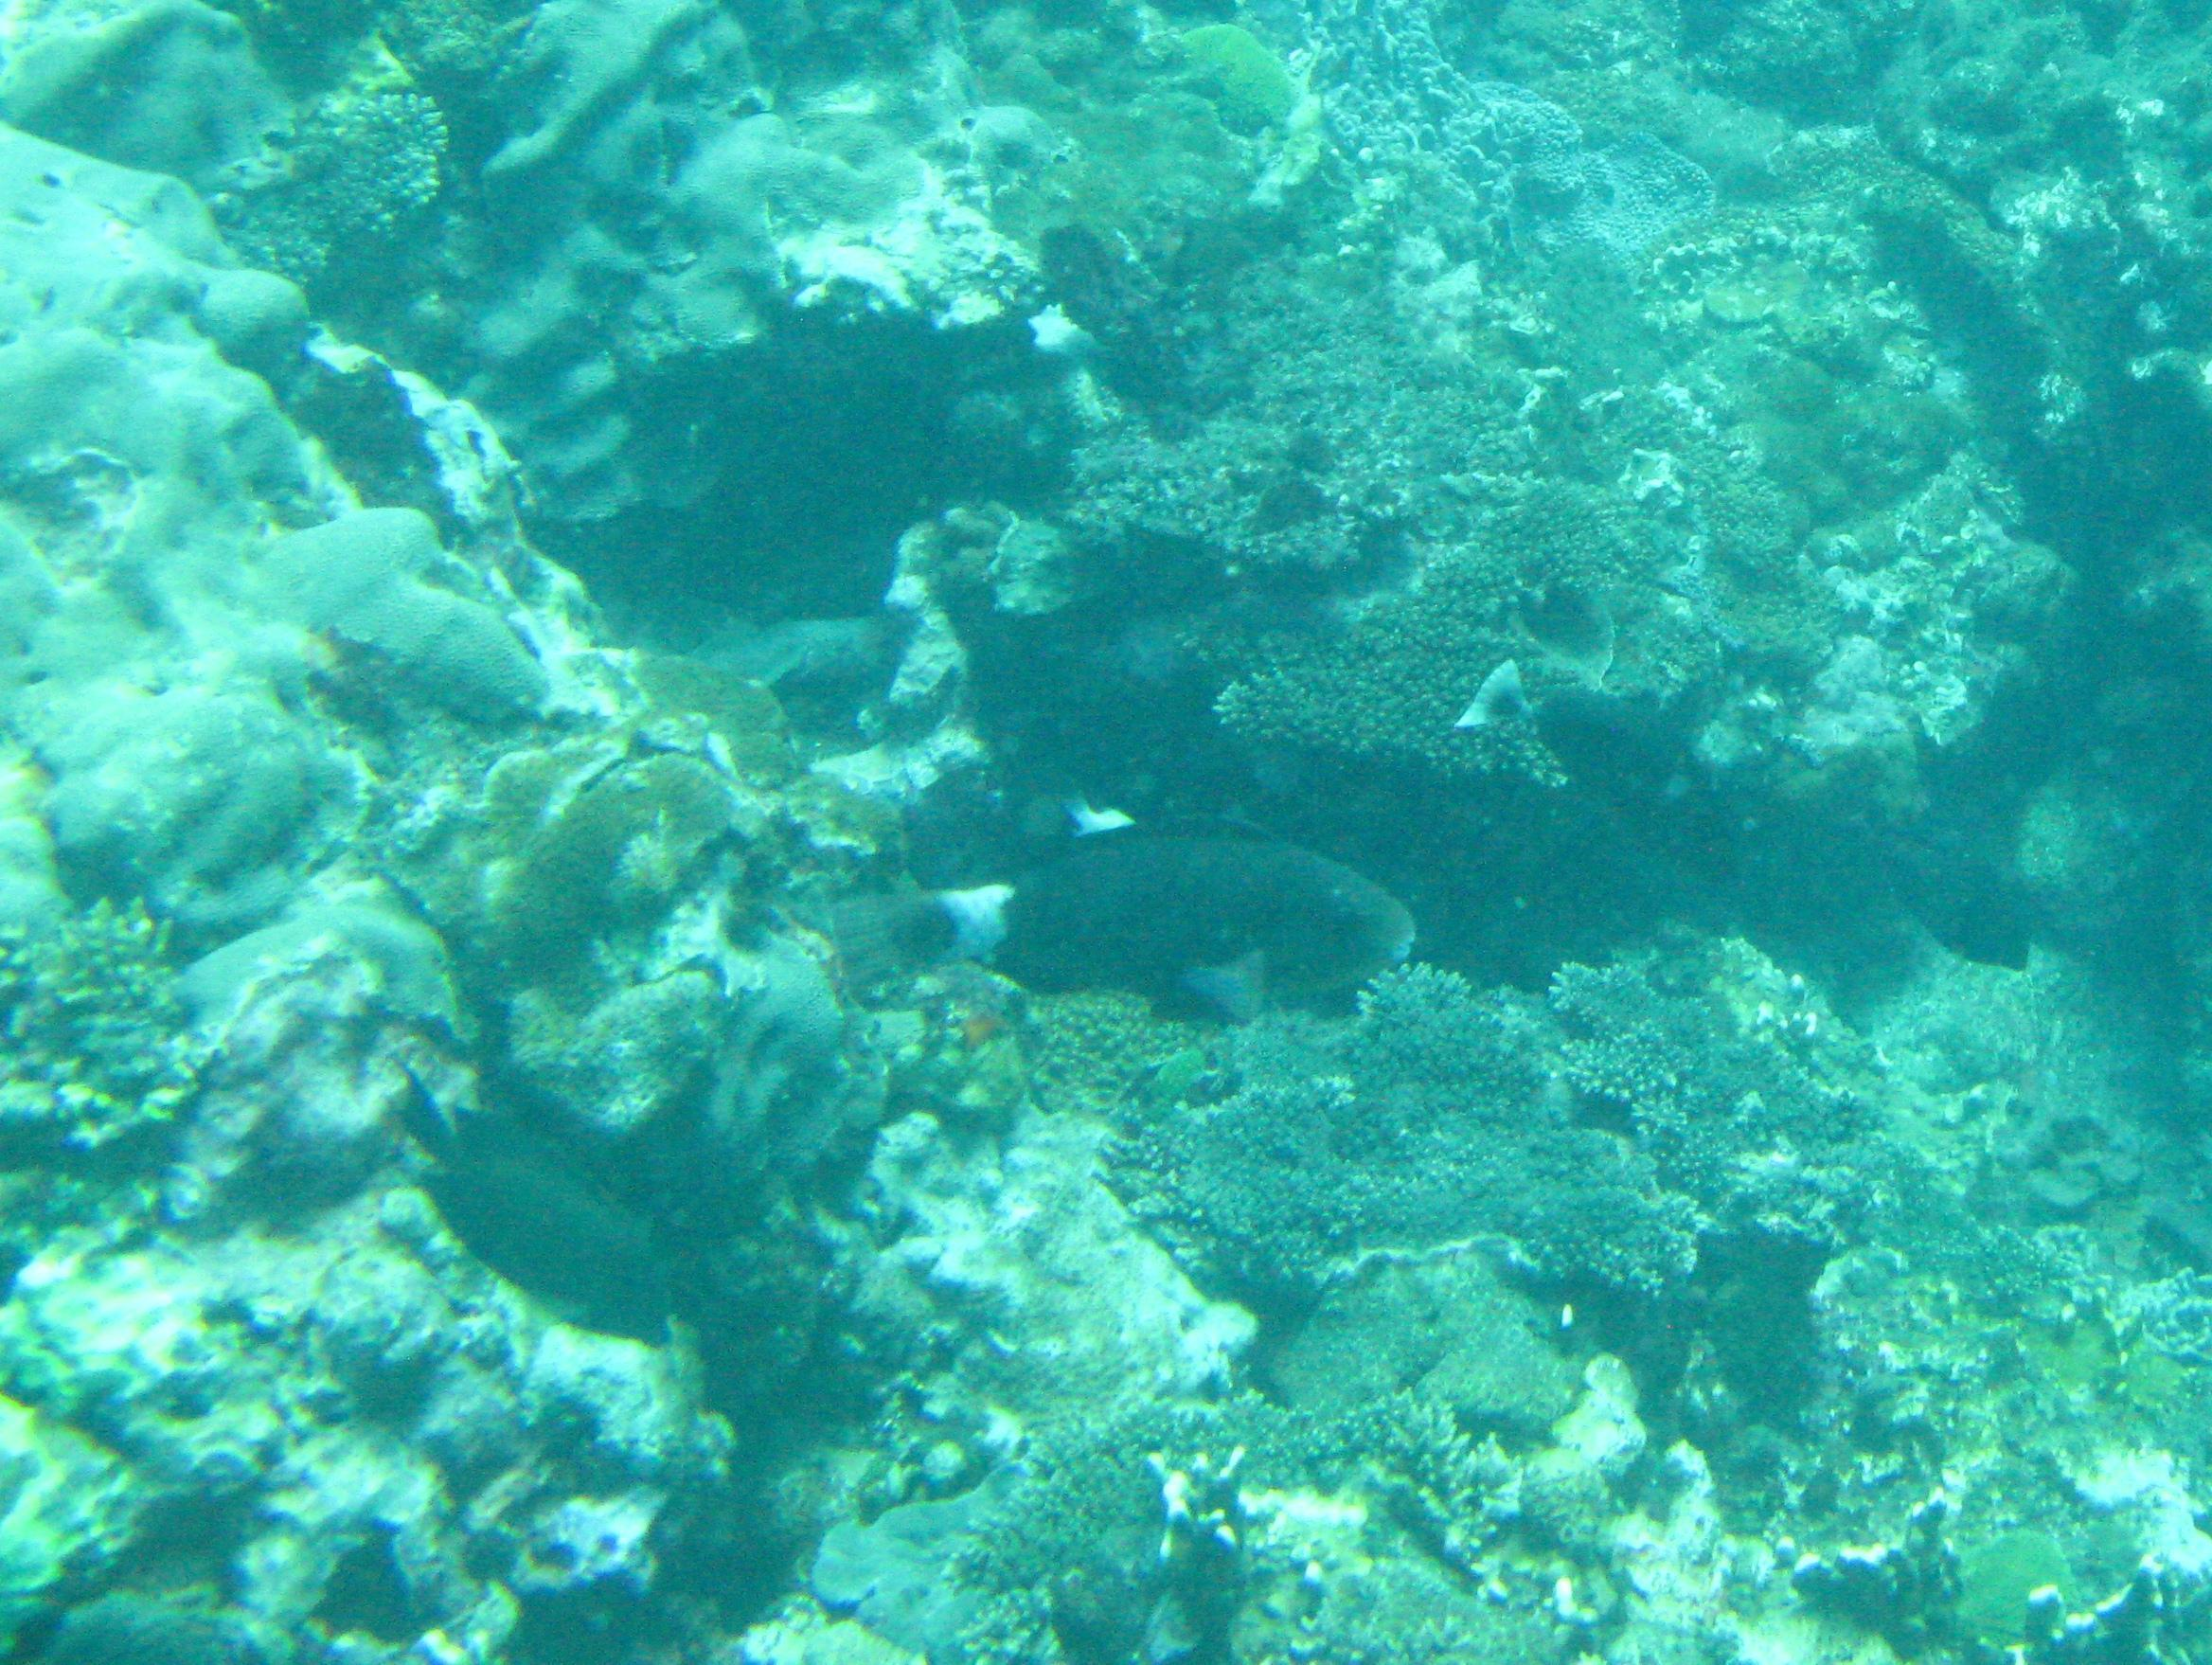Chlorurus sordidus: (811, 780, 1460, 1167)
